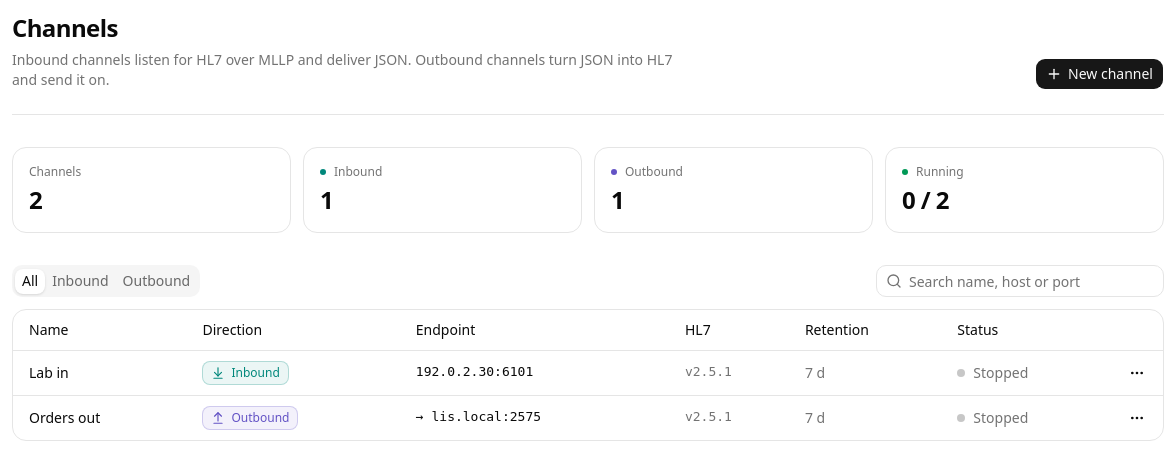
ChannelsListPage › lists channels with endpoints and filters by direction and search
Check: the text "192.0.2.30:6101" is shown, box [408,350,677,395]
Check: the text "→ lis.local:2575" is shown, box [408,395,677,440]
Click the tab "Outbound": {"x": 156, "y": 281} [116,268,197,294]
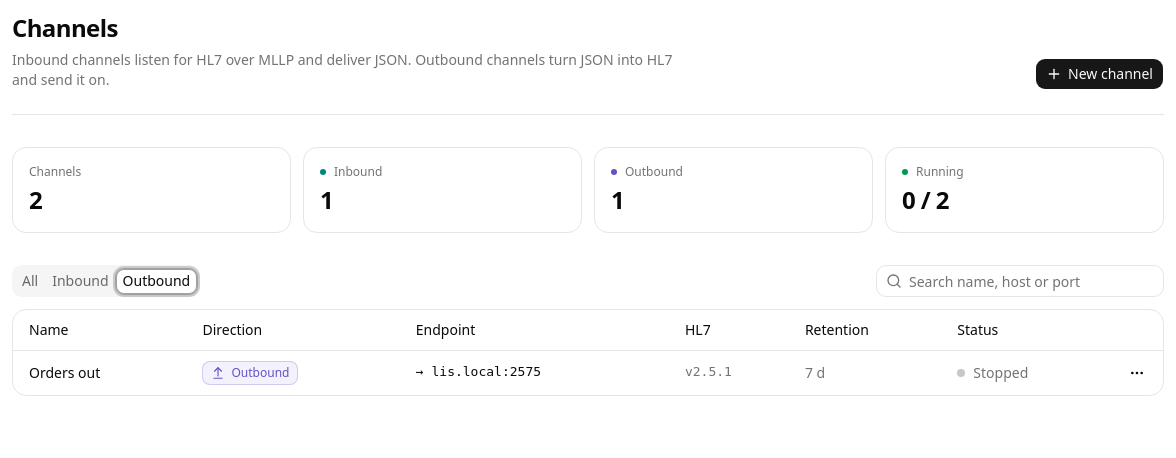
Check: the link "Orders out" is shown, box [29,362,100,382]
Check: the link "Lab in" is gone
Click the tab "All": {"x": 30, "y": 281} [15,268,45,294]
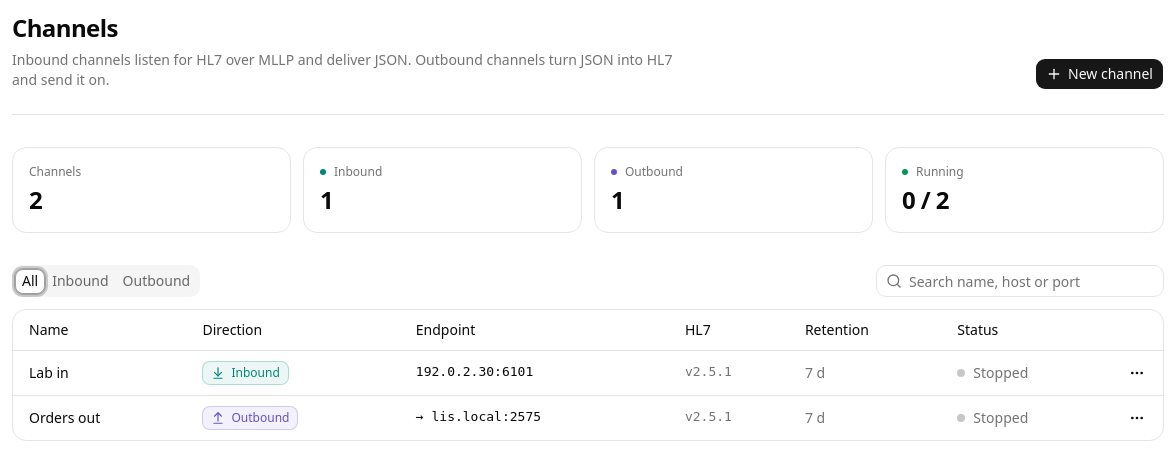
In the field named "Search channels": {"x": 1020, "y": 281} [876,265,1164,297], type "6101"
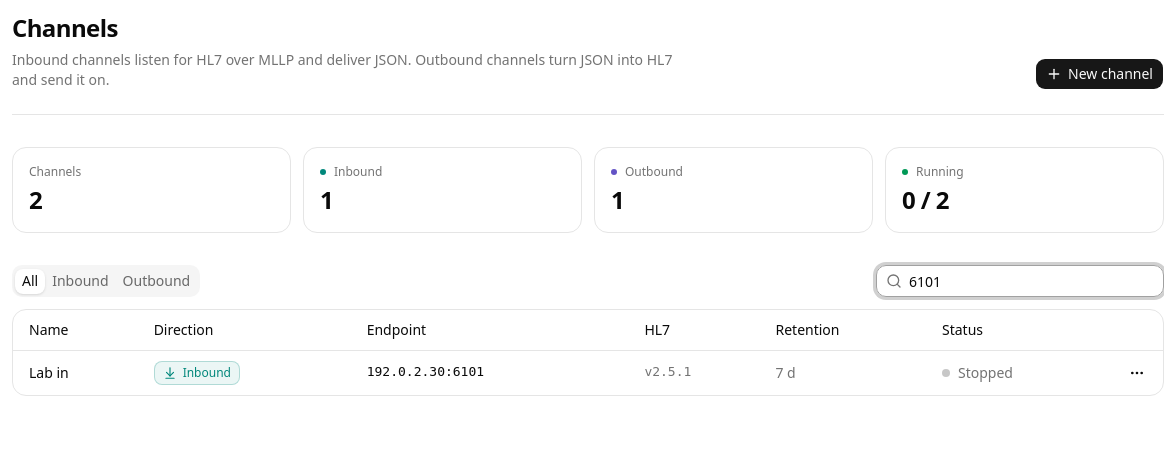
Check: the link "Lab in" is shown, box [29,362,69,382]
Check: the link "Orders out" is gone
